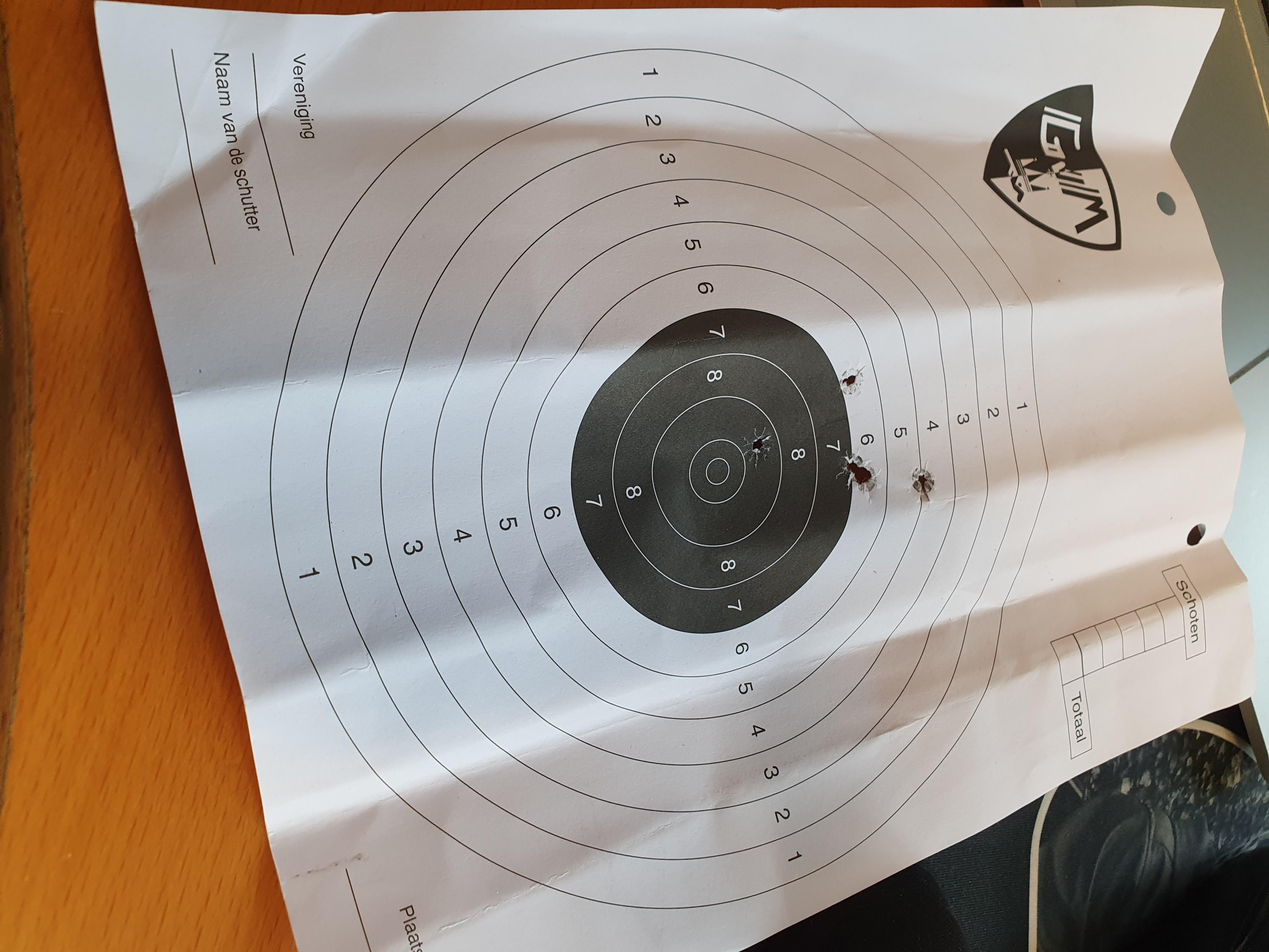hole: (617, 246, 670, 272), (485, 296, 524, 326), (570, 371, 616, 396), (601, 305, 634, 326), (621, 294, 653, 314)
